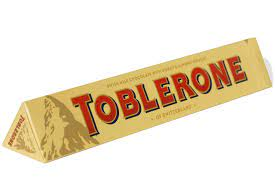Chocolate: (3, 21, 275, 166)
